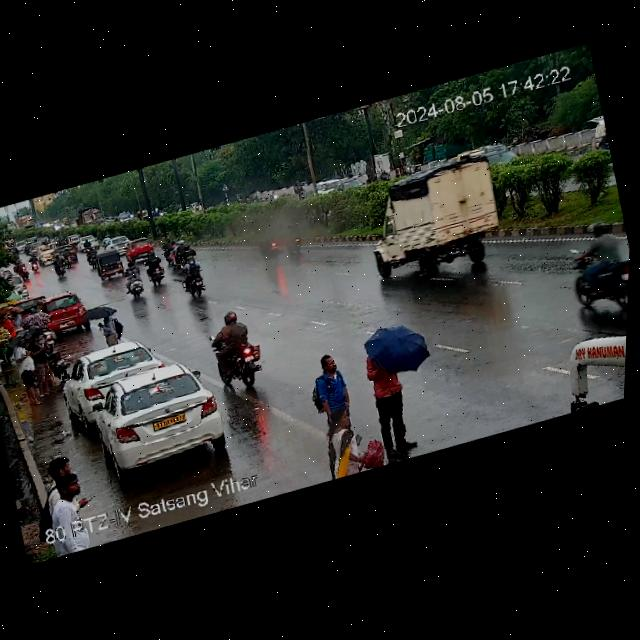bus: (543, 292, 628, 414)
car: (87, 352, 233, 478), (57, 333, 163, 419), (25, 282, 90, 336), (456, 138, 517, 170), (94, 244, 131, 280), (585, 111, 612, 159), (125, 235, 158, 260), (99, 231, 132, 250)
motorcycle: (555, 213, 631, 317), (199, 306, 264, 396), (14, 235, 63, 275), (175, 255, 213, 301), (160, 230, 201, 270), (278, 211, 310, 261), (49, 239, 91, 275), (251, 218, 282, 261), (142, 249, 172, 290), (119, 261, 147, 302), (78, 236, 106, 269), (77, 231, 104, 257), (160, 233, 190, 254), (50, 252, 74, 278), (78, 236, 96, 253)
person: (358, 355, 428, 465), (27, 455, 82, 537), (308, 353, 355, 438), (320, 404, 371, 478), (75, 297, 133, 355), (8, 330, 43, 411), (40, 470, 88, 523), (23, 326, 57, 399), (3, 305, 28, 336), (0, 312, 12, 330)
truck: (352, 145, 514, 290), (74, 202, 104, 229)
